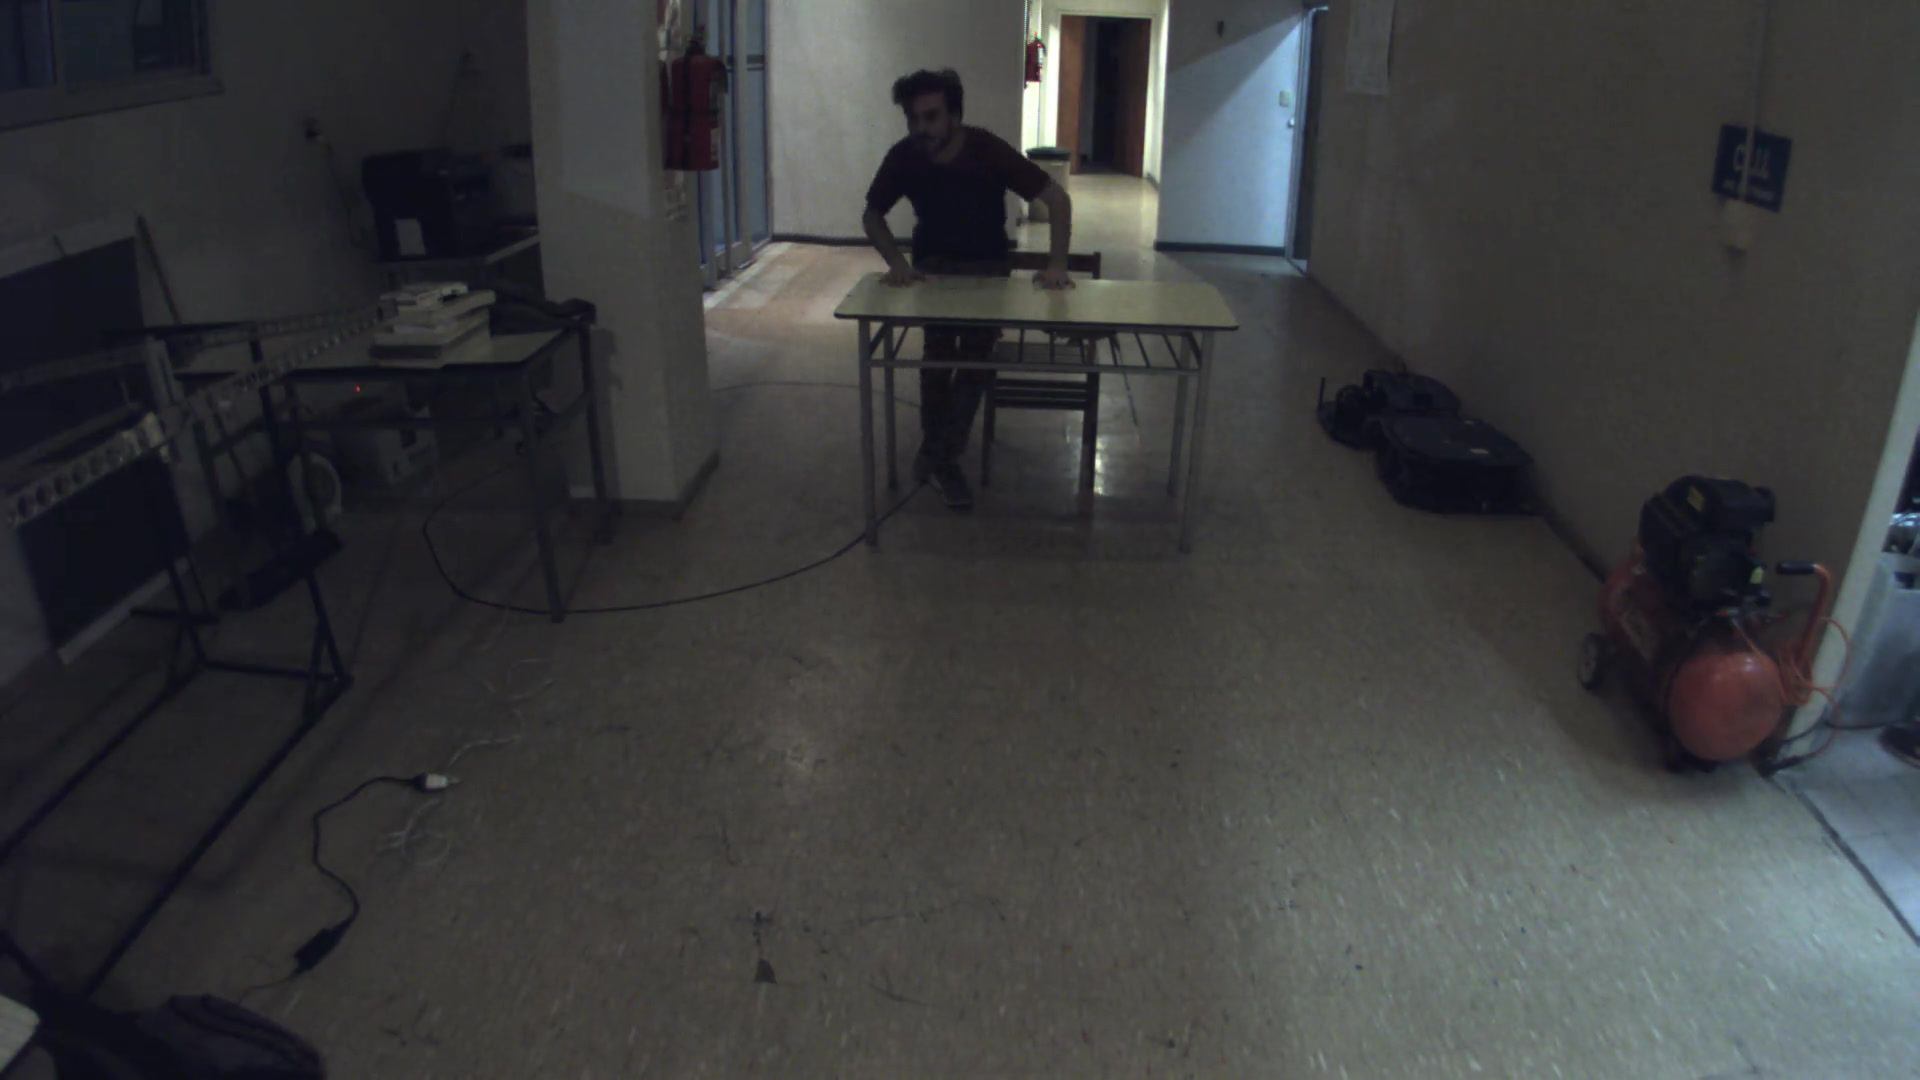hand: (1035, 262, 1093, 305), (873, 258, 932, 295)
